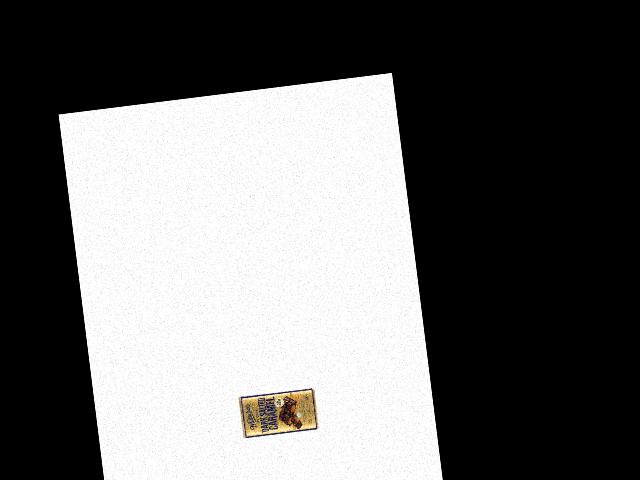chocolate: (238, 384, 320, 439)
